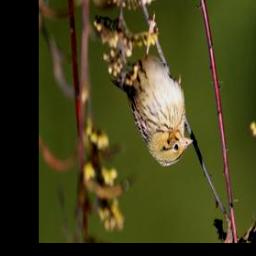Sparrow: (109, 13, 195, 169)
